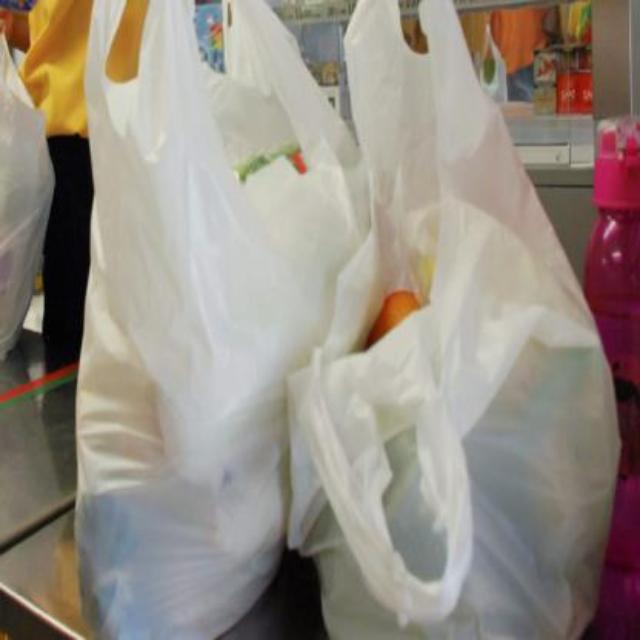sacola plástica: (291, 0, 621, 638), (75, 0, 368, 638)
